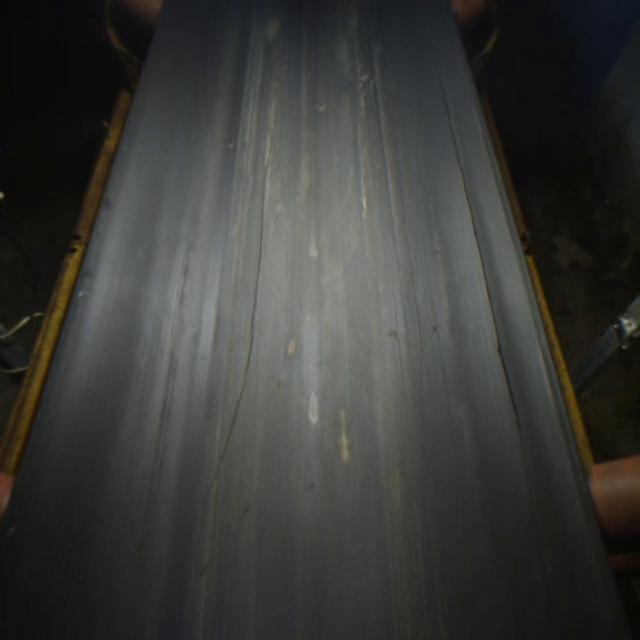Tear: (427, 63, 529, 442), (199, 161, 283, 490)
